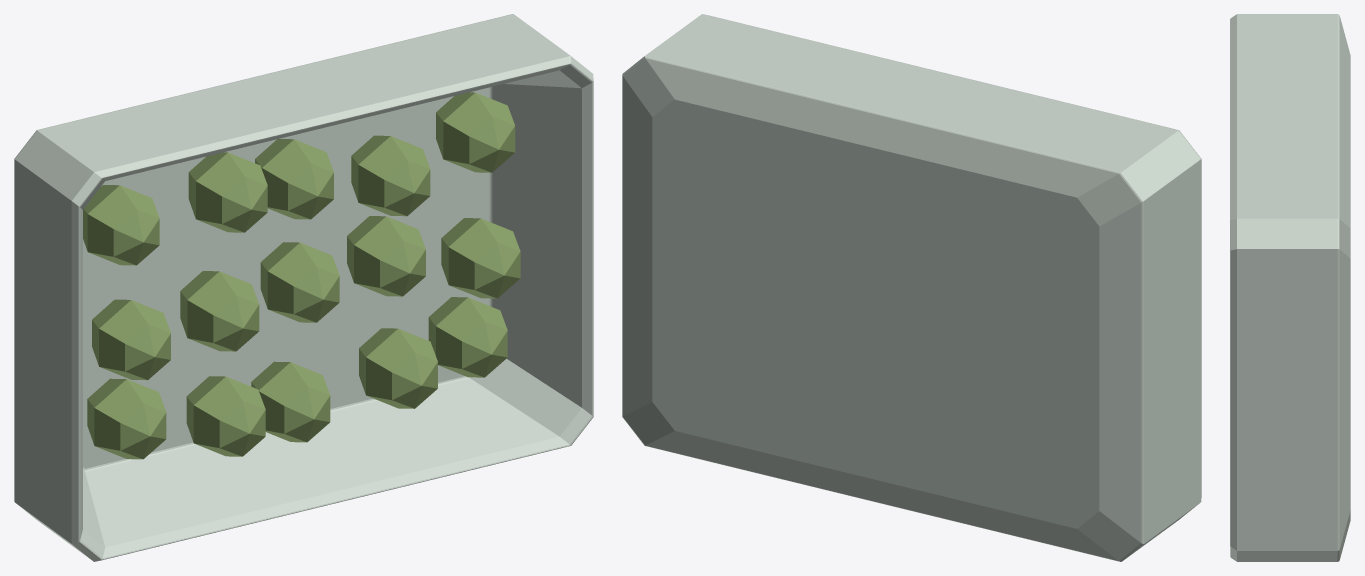
File: gooseberries.glb
3 renders of one model, left to right at view 1: azimuth 30°, elevation 25°; view 2: azimuth 150°, elevation 25°; view 3: azimuth 270°, elevation 25°, orthographic. The views are drawn at different scales.
Visible parts, largest first — view 1: gooseberries; view 2: gooseberries; view 3: gooseberries.
Part boxes in pixels (x1,y1,x2,y2): gooseberries: (14,14,593,561); gooseberries: (622,14,1201,561); gooseberries: (1230,14,1350,561).
Bounding box in the file's own units: 0.14 × 0.1 × 0.0318.
